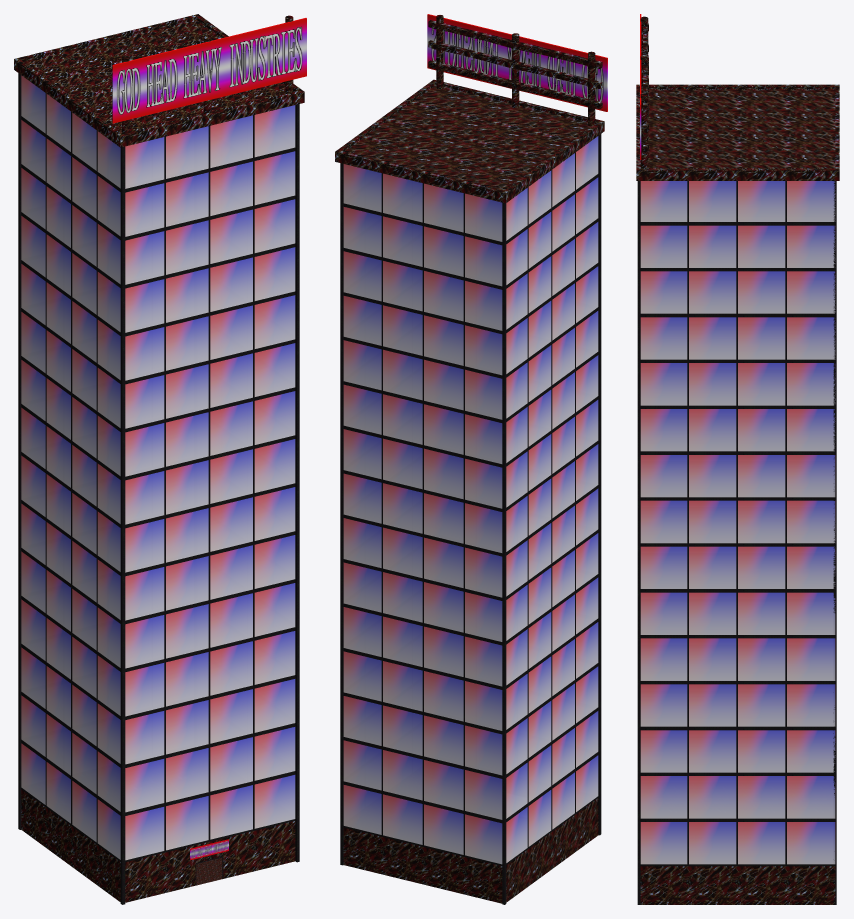
Rendered from GODHEAD.glb.
The picture shows the model from 3 angles, left to right: view 1: azimuth 30°, elevation 25°; view 2: azimuth 150°, elevation 25°; view 3: azimuth 270°, elevation 25°; orthographic projection. The views are drawn at different scales.
Parts seen in each view (by area): view 1: WINDOW_PANES-COL, WINDOW_BORDERS-COL, CEELING-COL, PLACA-COL, WIRE_PILARS-COL, FLOOR_WINDOWS-COL, FLOOR-COL; view 2: WINDOW_PANES-COL, WINDOW_BORDERS-COL, CEELING-COL, FLOOR_WINDOWS-COL, WIRE_PILARS-COL, PLACA-COL, PLACA_WIRES-COL; view 3: WINDOW_PANES-COL, CEELING-COL, WINDOW_BORDERS-COL, FLOOR_WINDOWS-COL, WIRE_PILARS-COL, PLACA_WIRES-COL.
Boxes of the visible parts, x1,y1,x2,y2 form: WINDOW_PANES-COL: (21,75,295,860); WINDOW_BORDERS-COL: (21,93,295,862); CEELING-COL: (14,14,304,147); PLACA-COL: (112,18,306,123); WIRE_PILARS-COL: (18,73,299,904); FLOOR_WINDOWS-COL: (21,789,295,902); FLOOR-COL: (25,832,294,902); WINDOW_PANES-COL: (343,136,598,864); WINDOW_BORDERS-COL: (343,152,598,865); CEELING-COL: (335,79,604,203); FLOOR_WINDOWS-COL: (343,798,598,903); WIRE_PILARS-COL: (340,134,601,904); PLACA-COL: (427,14,607,111); PLACA_WIRES-COL: (428,15,602,126); WINDOW_PANES-COL: (640,181,835,864); CEELING-COL: (636,84,839,180); WINDOW_BORDERS-COL: (640,181,835,866); FLOOR_WINDOWS-COL: (640,866,835,904); WIRE_PILARS-COL: (637,181,836,904); PLACA_WIRES-COL: (640,16,648,168).
Bounding box in the file's own units: 140 × 582 × 133.
5 materials, 5 textured.
